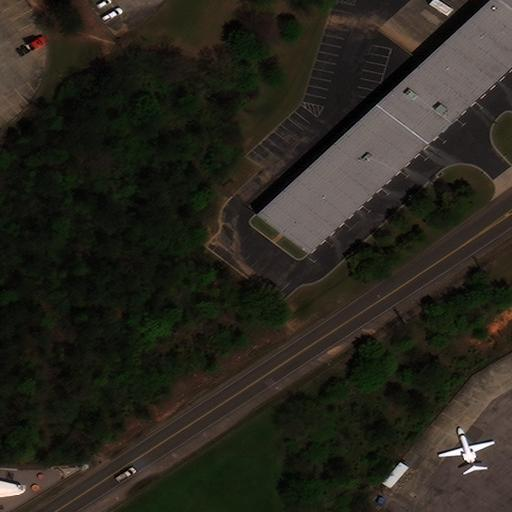Medium Civil Transport: (438, 426, 493, 471)
